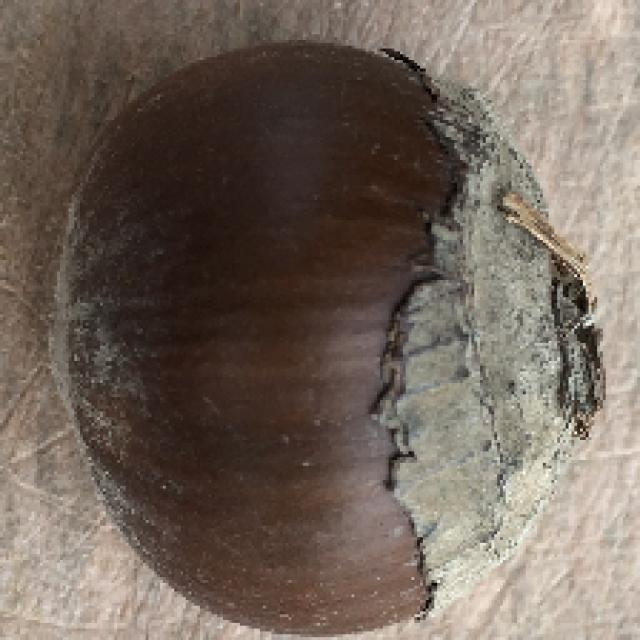damagedHazelnut: (46, 40, 605, 638)
